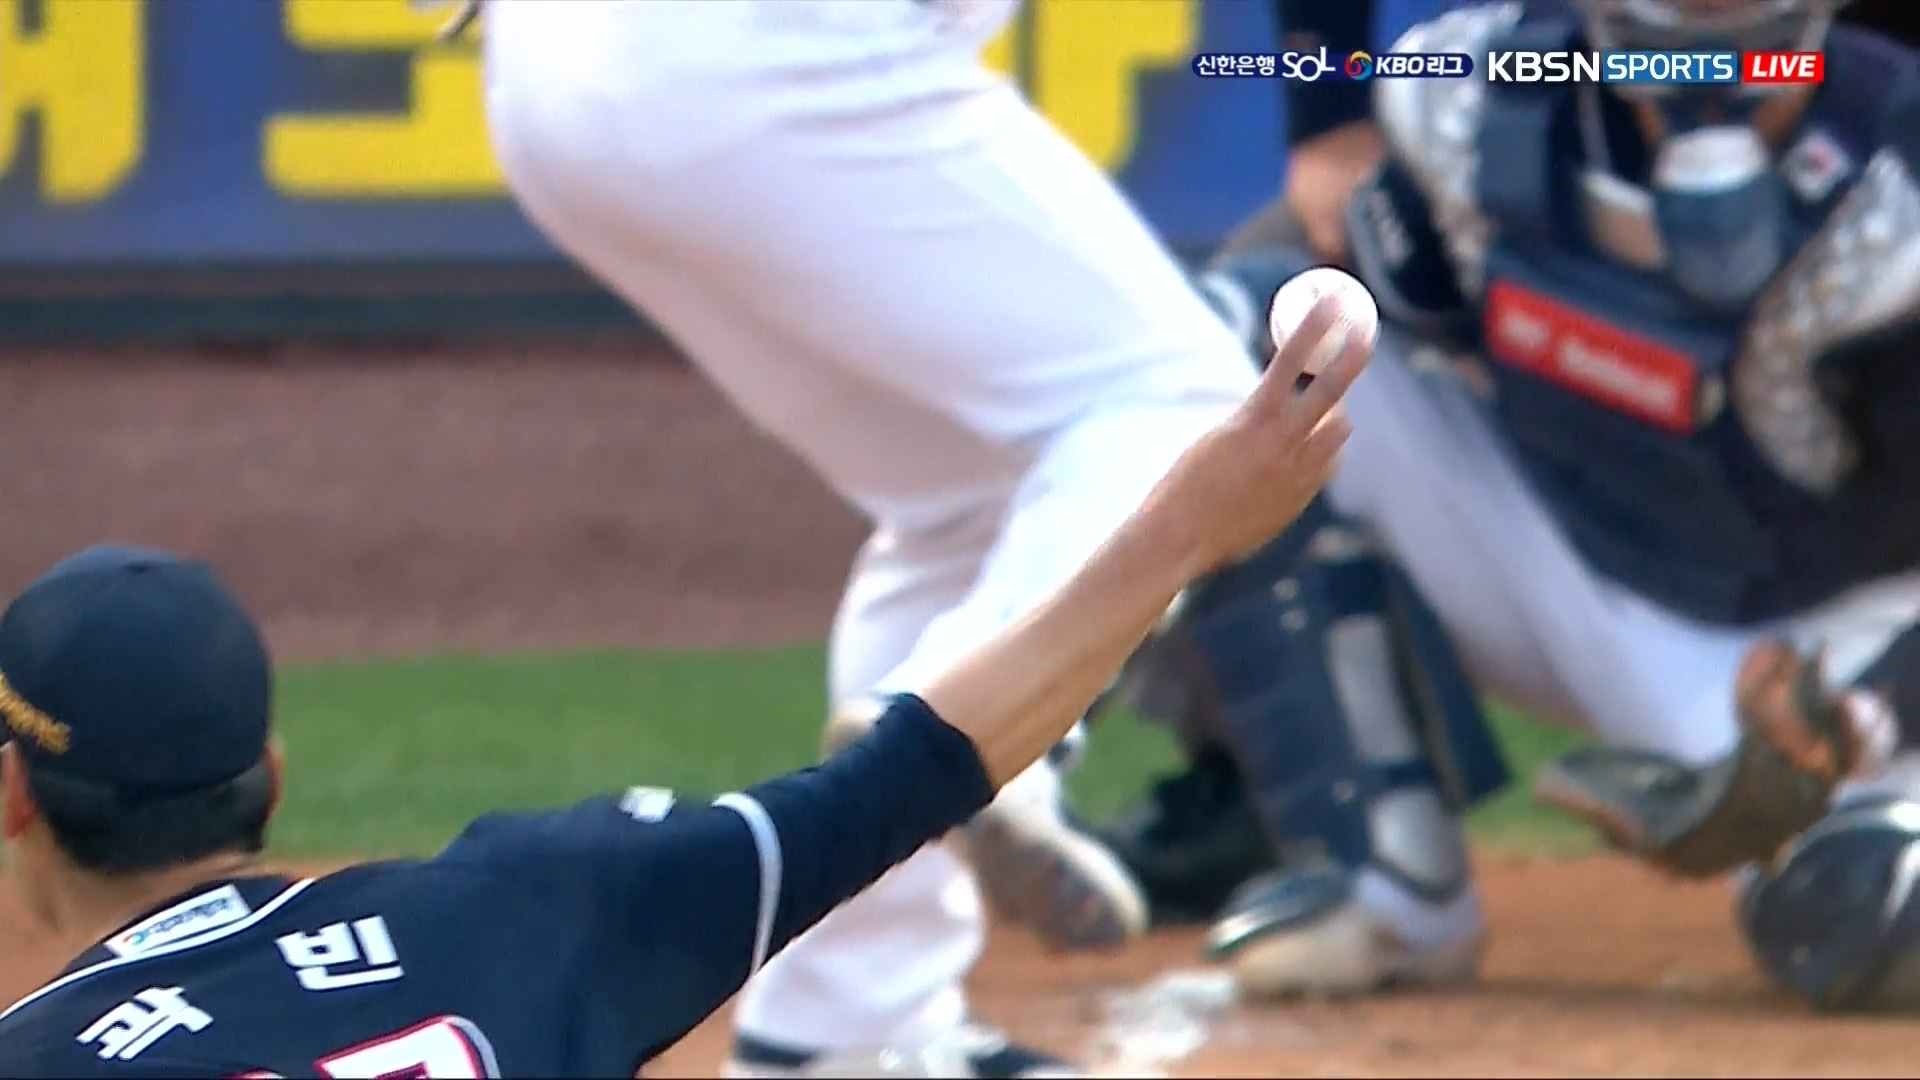zoomin_hand: (847, 252, 1394, 858)
